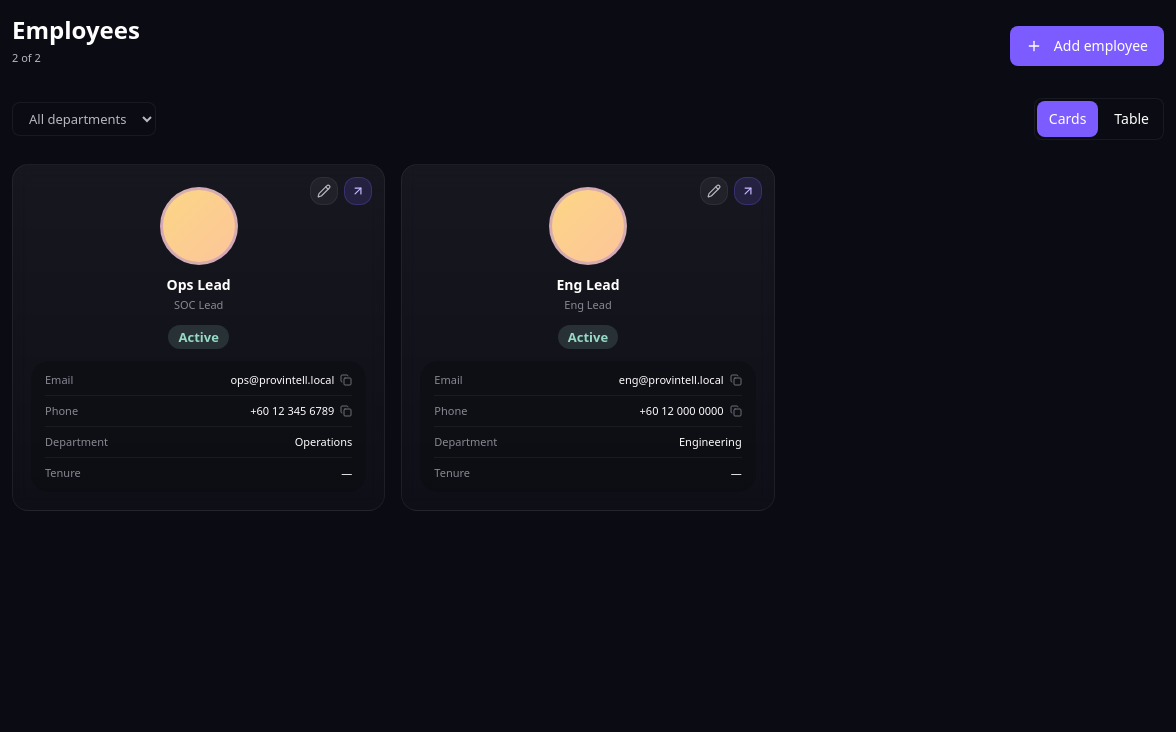
EmployeesPage › filters by department
The width and height of the screenshot is (1176, 732).
Check: the heading "Ops Lead" is shown, box [167,275,231,294]
Select "Operations" in the dropdown named "department". click: (84,119)
box: [12,102,156,136]
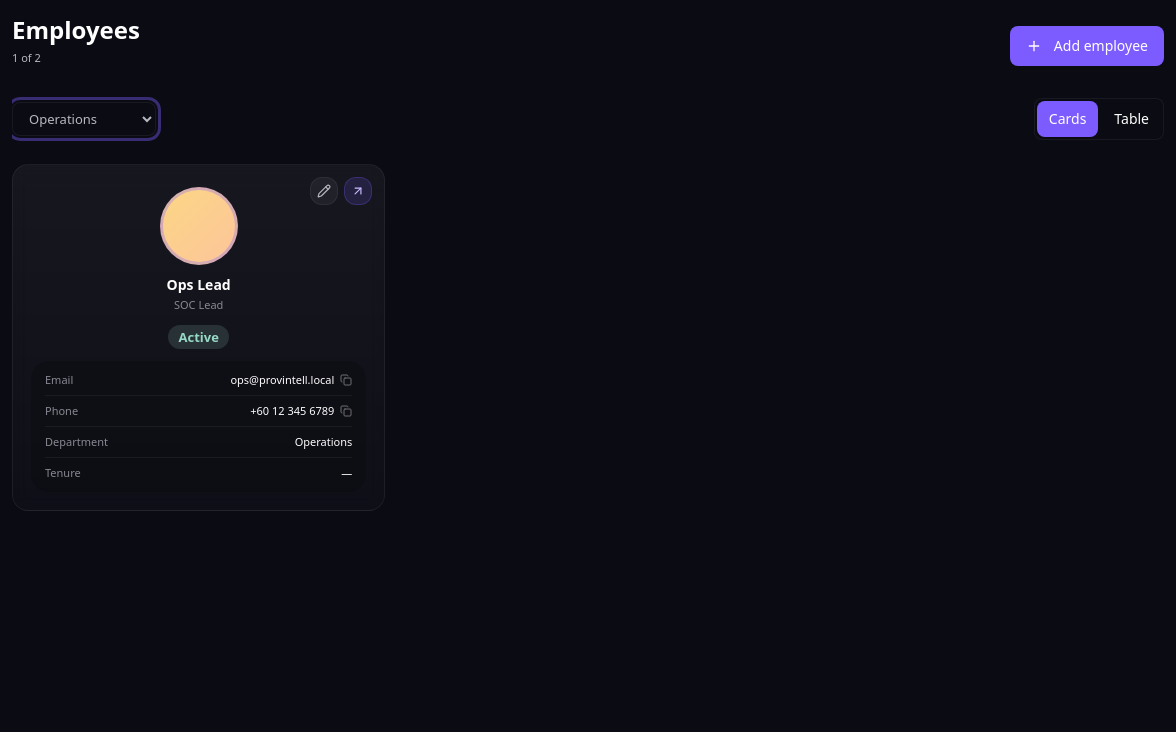
Check: the heading "Ops Lead" is shown, box [167,275,231,294]
Check: the heading "Eng Lead" is gone
